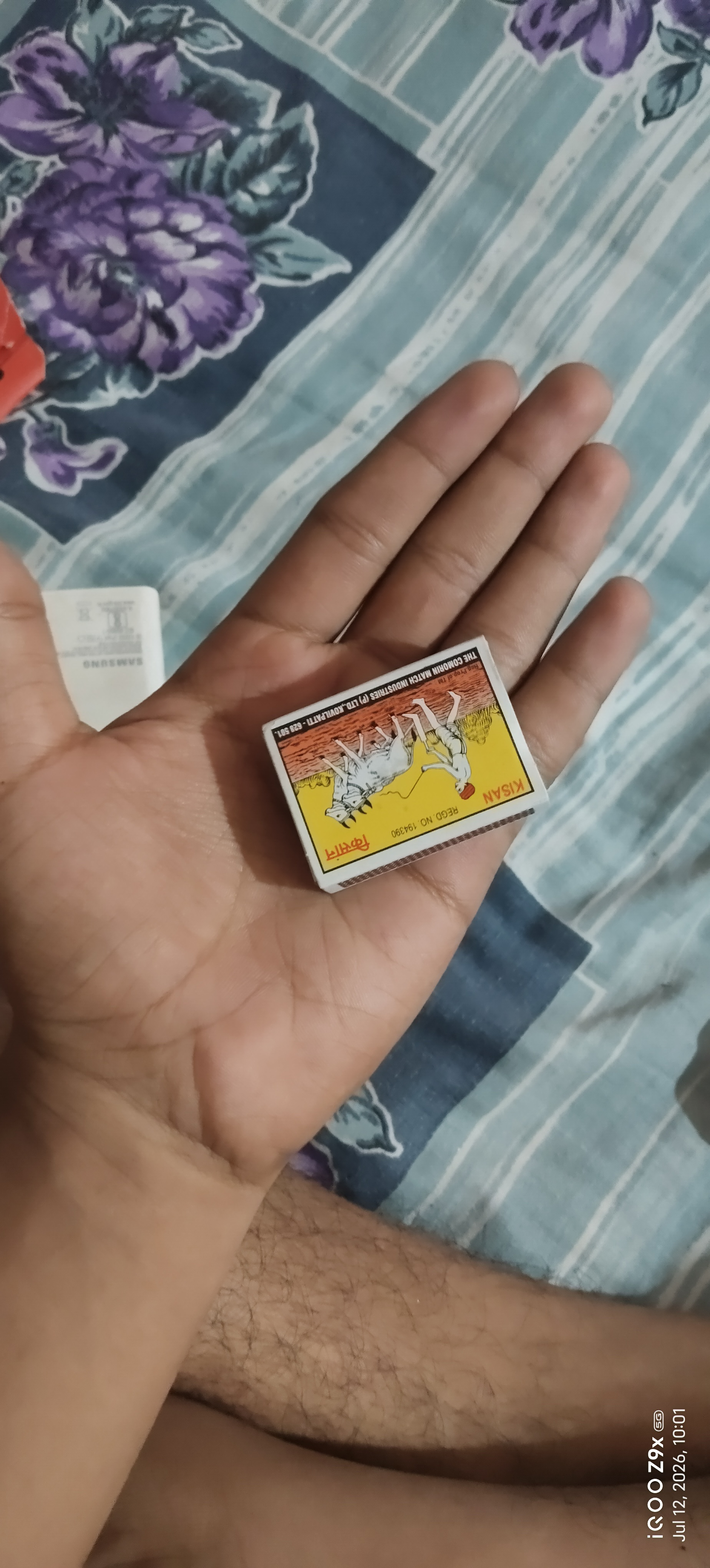charger: (17, 539, 194, 765)
matchbox: (243, 594, 577, 919)
